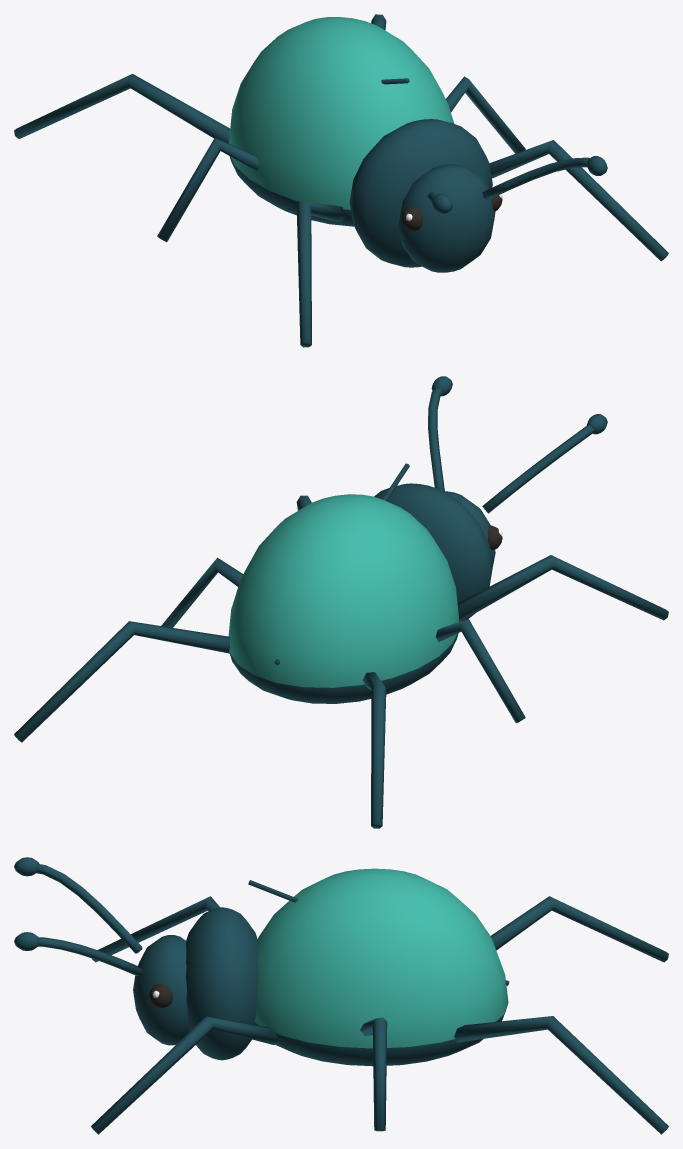
Rendered from bug-jewel-beetle.glb.
3 renders of one model, top to bottom at view 1: azimuth 30°, elevation 25°; view 2: azimuth 150°, elevation 25°; view 3: azimuth 270°, elevation 25°, orthographic.
Parts seen in each view (by area): view 1: bug; view 2: bug; view 3: bug.
Boxes of the visible parts, x1=… form: bug: x1=14, y1=14, x2=668, y2=347; bug: x1=14, y1=376, x2=668, y2=828; bug: x1=14, y1=857, x2=668, y2=1134.
Bounding box in the file's own units: 0.2112 × 0.0986 × 0.3293.
